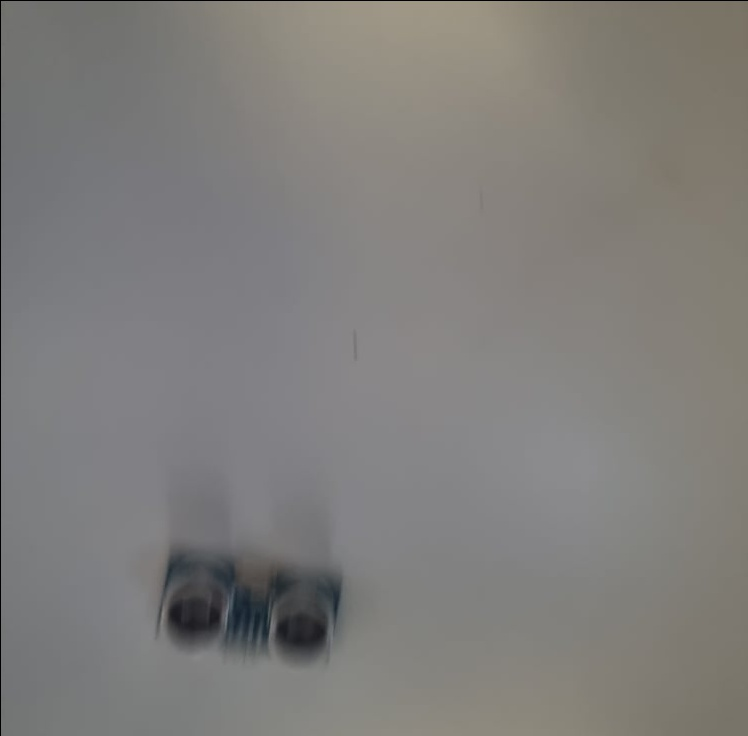SENSOR: (151, 556, 344, 676)
